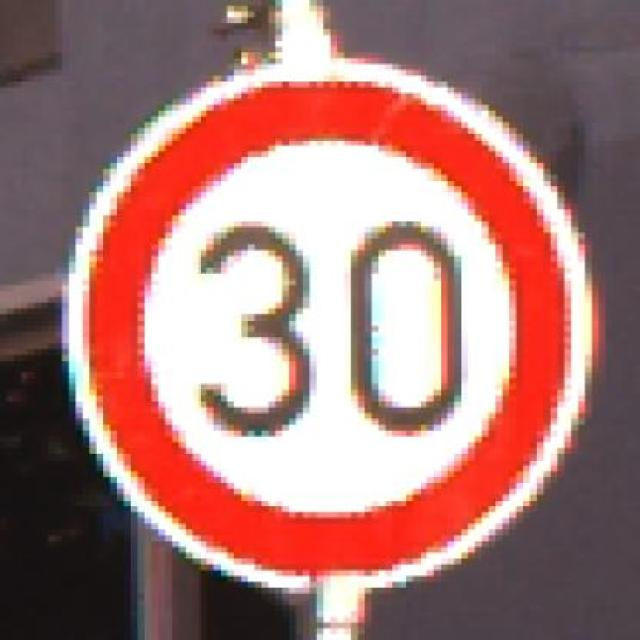Speed Limit 30 KMPh: (35, 28, 619, 600)
